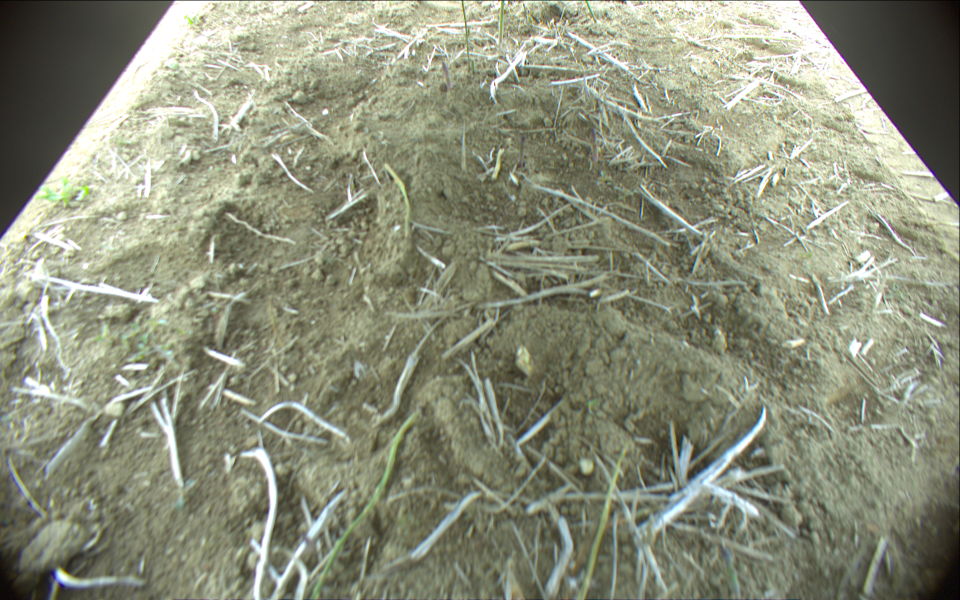aspa: (309, 405, 420, 600), (580, 445, 632, 600), (387, 164, 410, 240), (457, 1, 470, 70), (498, 1, 507, 57), (441, 60, 451, 90), (584, 1, 597, 20)
